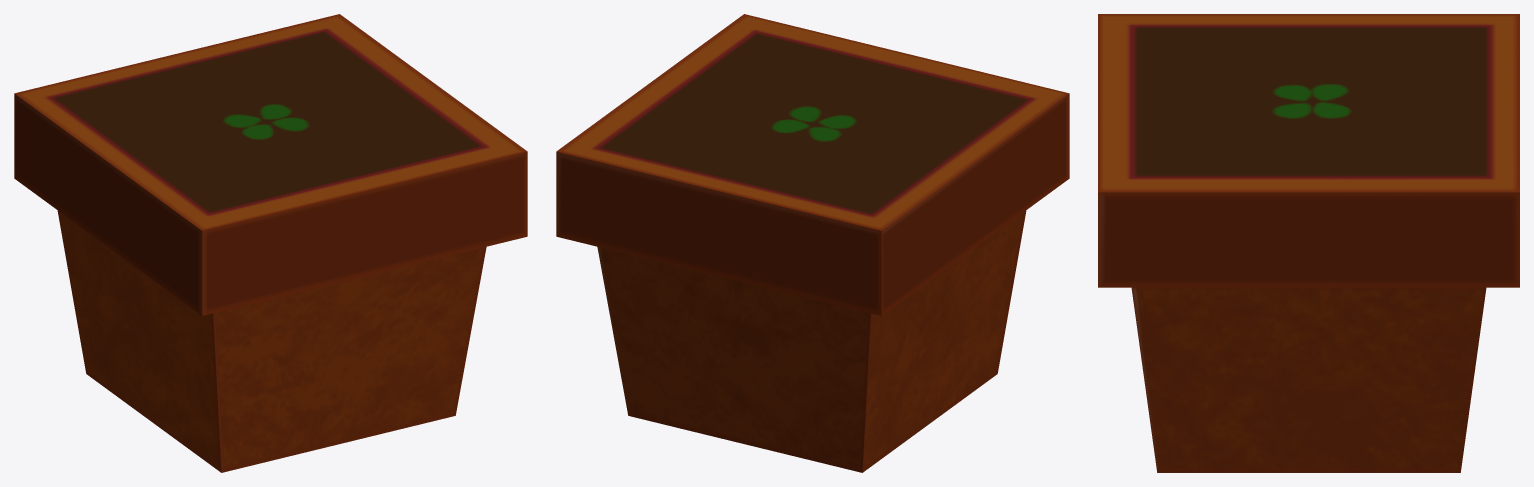
The model's file is Flowerpot.fbx.
3 views of the same model, side by side, from view 1: azimuth 30°, elevation 25°; view 2: azimuth 150°, elevation 25°; view 3: azimuth 270°, elevation 25° (orthographic). The views are drawn at different scales.
Visible parts, largest first — view 1: Cylinder; view 2: Cylinder; view 3: Cylinder.
Part boxes in pixels (x1,y1,x2,y2): Cylinder: [14, 14, 527, 472]; Cylinder: [556, 14, 1069, 472]; Cylinder: [1098, 14, 1519, 472].
Bounding box in the file's own units: 237 × 190 × 237.
Materials: 1 (1 with a texture image).
